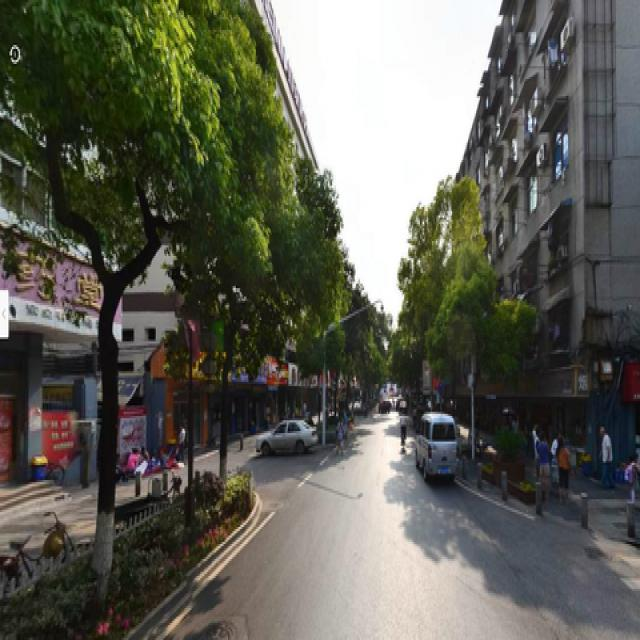cinn: (44, 17, 259, 574)
